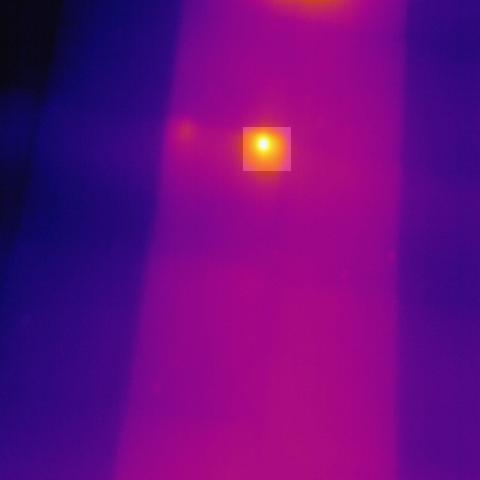fault: (243, 128, 291, 172)
